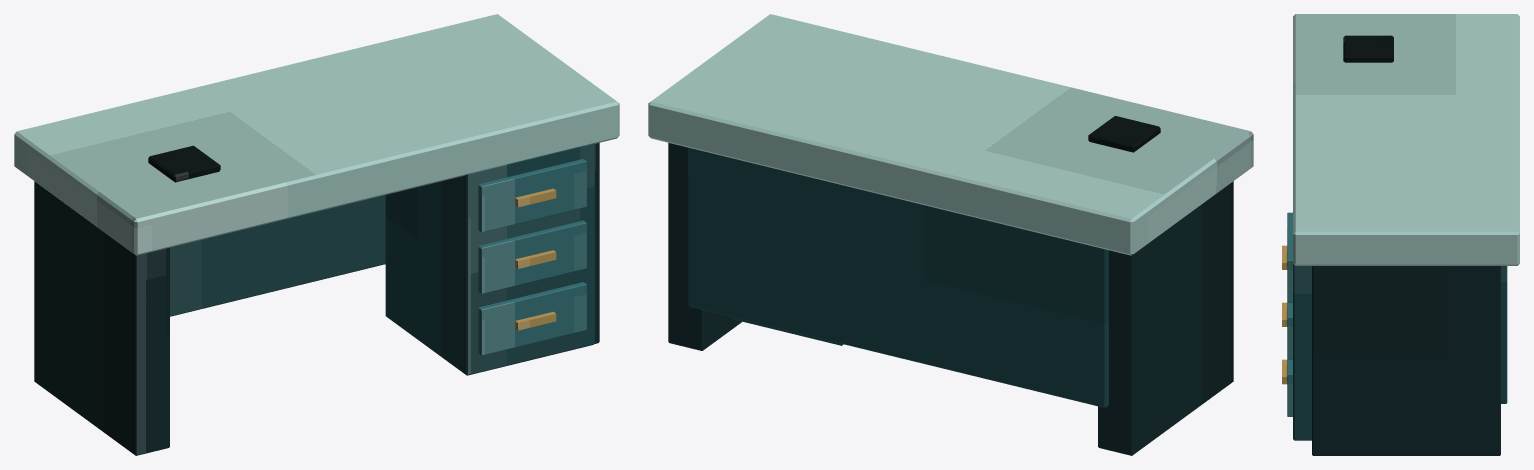
File: office_desk_teal.glb
The picture shows the model from 3 angles, left to right: view 1: azimuth 30°, elevation 25°; view 2: azimuth 150°, elevation 25°; view 3: azimuth 270°, elevation 25°; orthographic projection. The views are drawn at different scales.
Visible parts, largest first — view 1: DeskTop, DeskLeg, DrawerPedestal, ModestyPanel, Drawer_2, Drawer_1, Drawer_0, CableGrommet, DeskLeg.001; view 2: DeskTop, ModestyPanel, DeskLeg, DeskLeg.001, CableGrommet; view 3: DeskTop, DeskLeg.001, DrawerPedestal, CableGrommet, ModestyPanel, Drawer_2, Drawer_0, Drawer_1.
Boxes of the visible parts, x1,y1,x2,y2 form: DeskTop: (14, 14, 619, 255); DeskLeg: (34, 181, 169, 455); DrawerPedestal: (385, 143, 594, 375); ModestyPanel: (170, 195, 385, 316); Drawer_2: (478, 159, 586, 232); Drawer_1: (478, 220, 586, 293); Drawer_0: (478, 282, 586, 355); CableGrommet: (148, 145, 220, 182); DeskLeg.001: (594, 143, 599, 343); DeskTop: (648, 14, 1253, 255); ModestyPanel: (688, 147, 1108, 407); DeskLeg: (1098, 181, 1233, 455); DeskLeg.001: (668, 143, 741, 350); CableGrommet: (1088, 116, 1160, 152); DeskTop: (1293, 14, 1519, 265); DeskLeg.001: (1312, 266, 1500, 455); DrawerPedestal: (1293, 264, 1311, 440); CableGrommet: (1343, 35, 1393, 62); ModestyPanel: (1501, 266, 1507, 403); Drawer_2: (1287, 212, 1292, 302); Drawer_0: (1287, 360, 1292, 416); Drawer_1: (1287, 303, 1292, 359).
Size of the model in its own units: 1.65 by 0.8275 by 0.755.
1 material, 1 textured.
